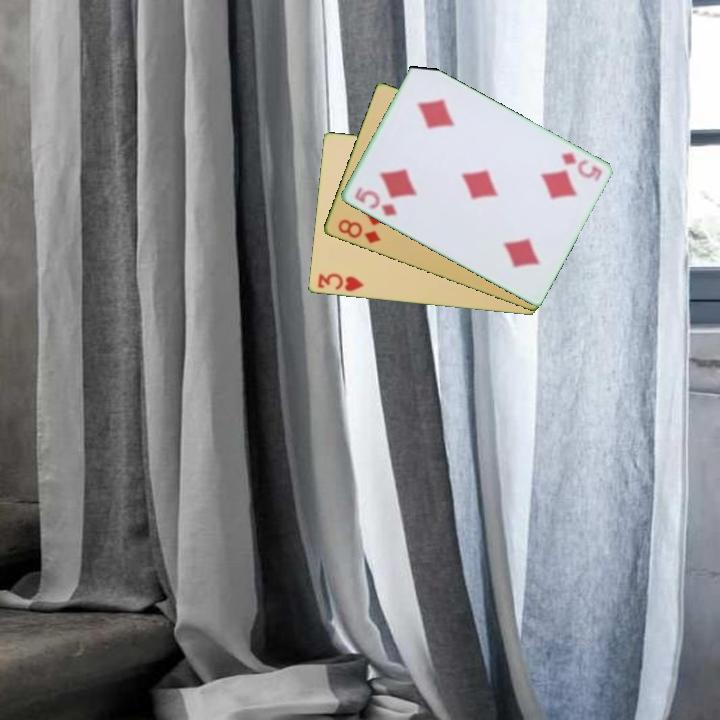3h: (314, 270, 366, 294)
5d: (350, 183, 400, 219), (557, 149, 605, 184)
8d: (334, 216, 383, 247)
